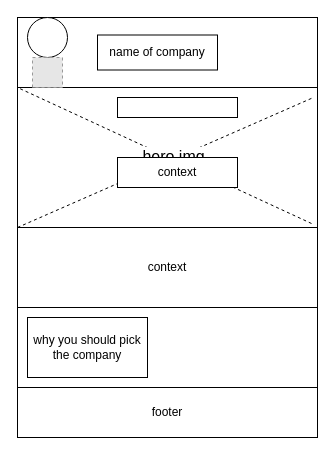
The diagram is 335 pixels wide and 455 high, and some of its shapes have lost their labels. Grey dashed boxes stand in for pictures. The shapes that lost their labels are listed below. From the top down, each one's box as (x1, y1, x2, y2) in pixels, then its label:
(26, 16, 68, 58): logo
(116, 96, 238, 118): heading
